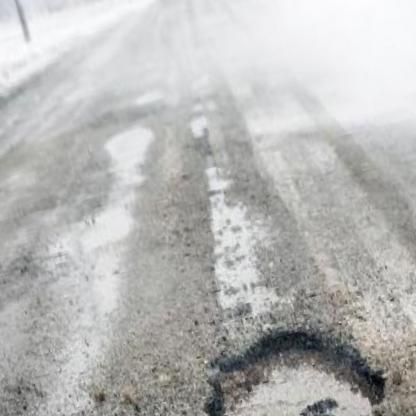pothole: (184, 295, 406, 416)
